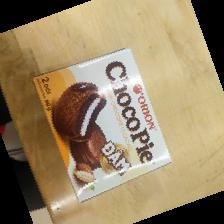Chocopie_cacao: (30, 46, 175, 206)
